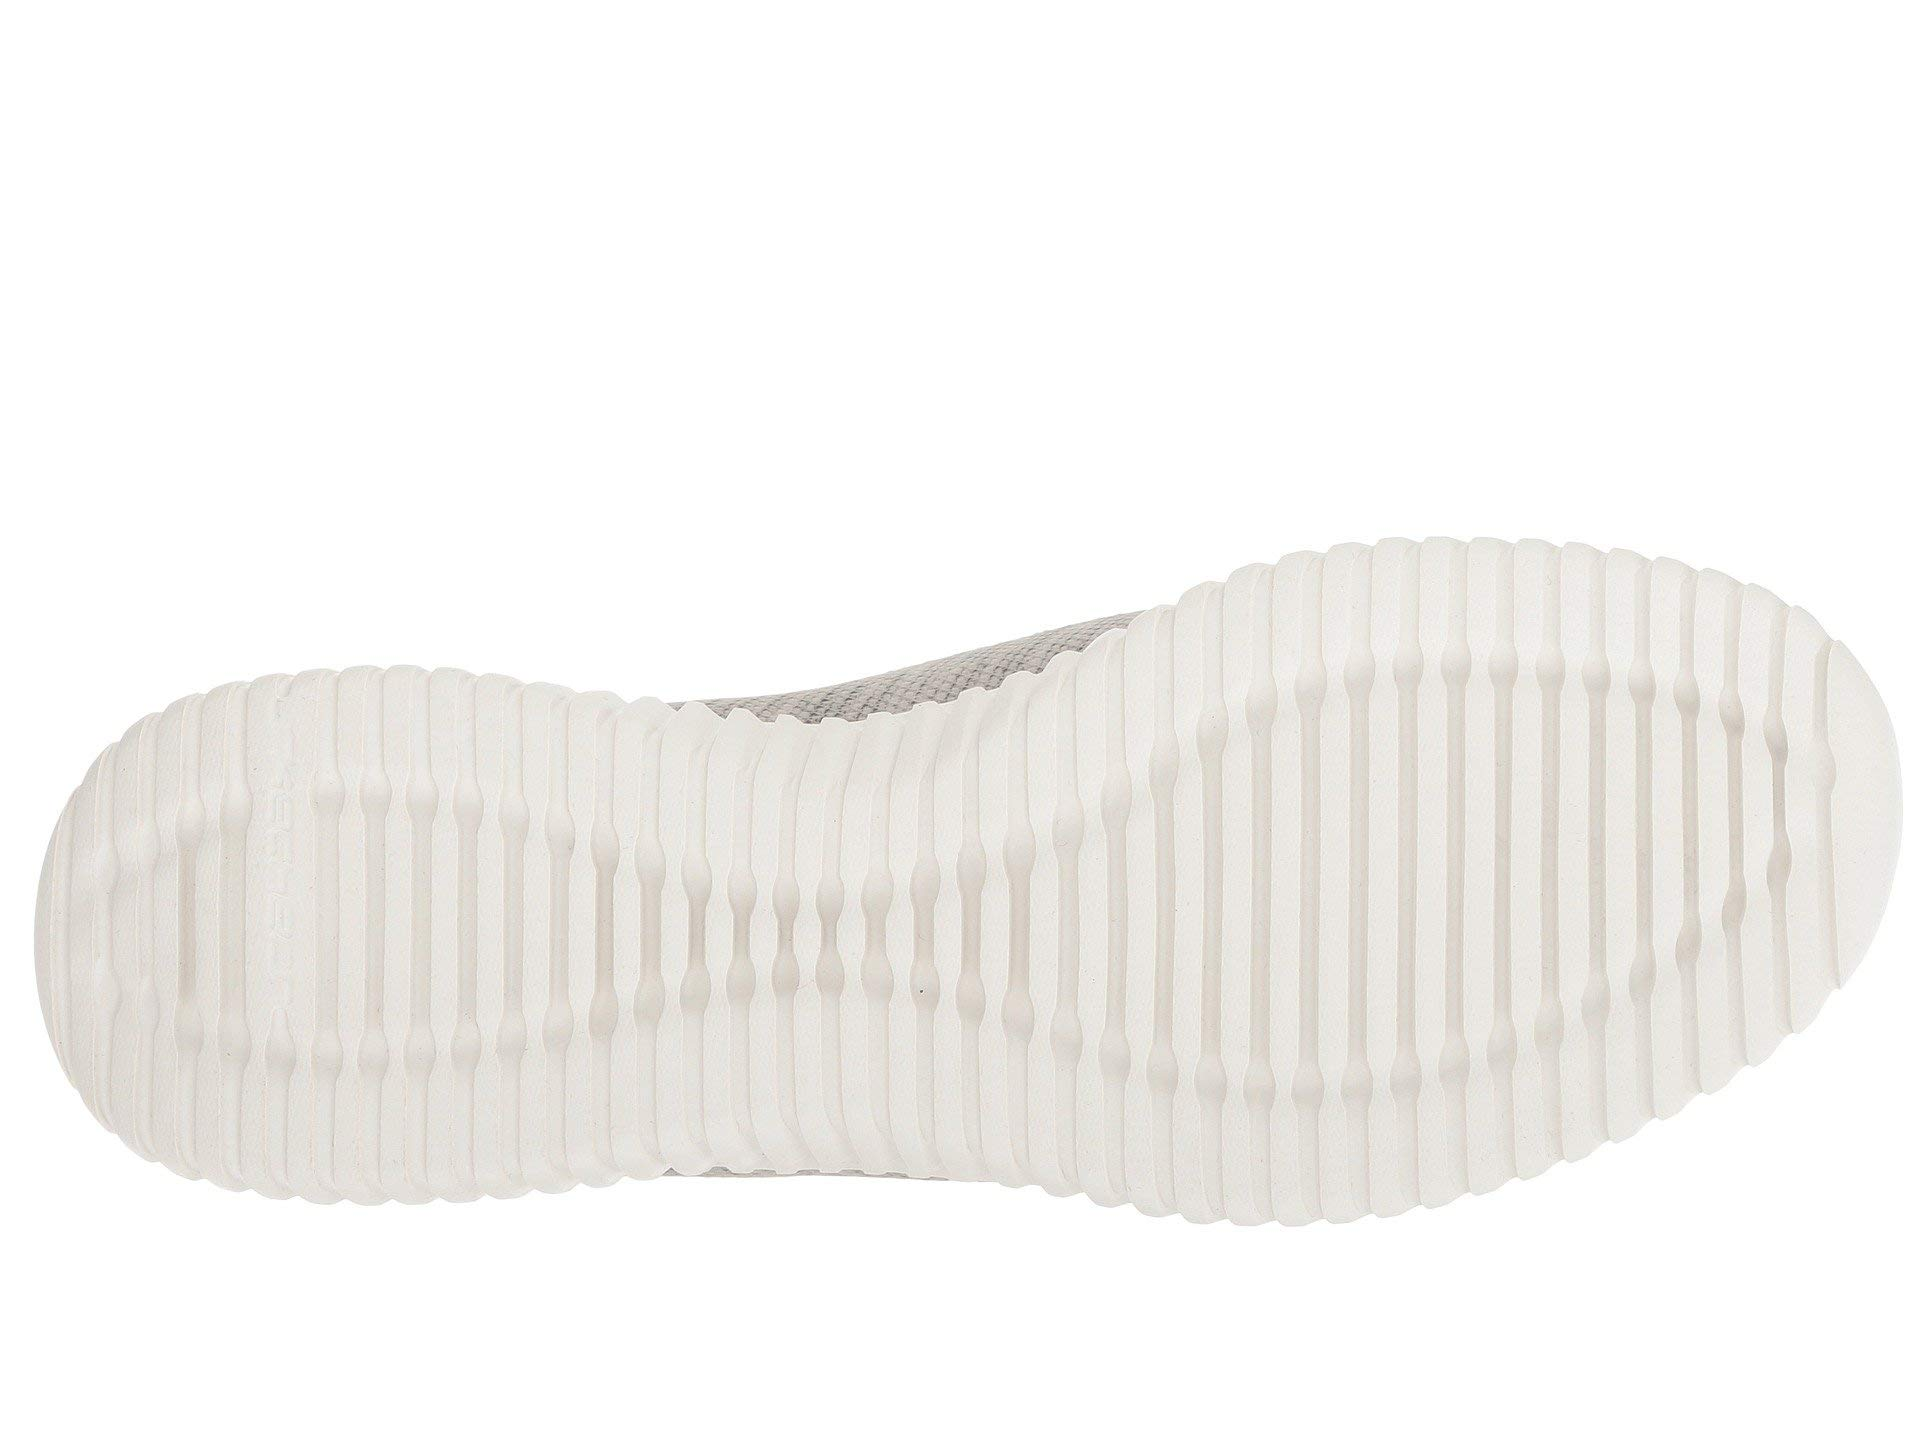line: (1252, 731, 1553, 1029), (327, 849, 544, 1053)
